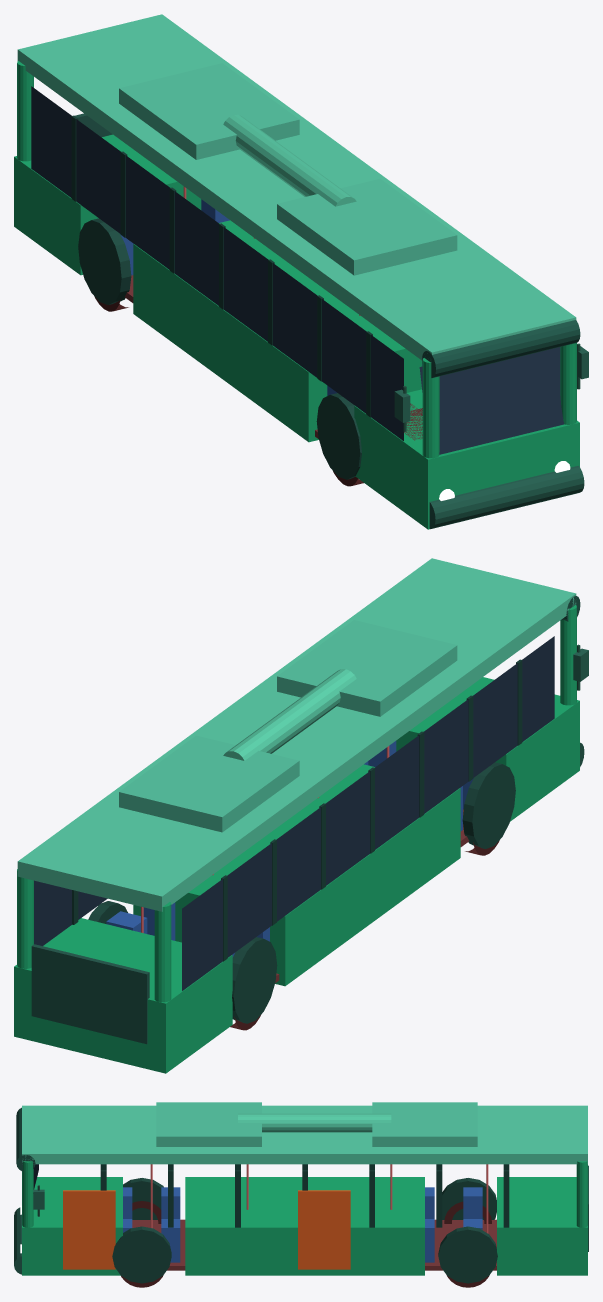
Rendered from cityline_transit_bus_lod0.glb.
3 renders of one model, top to bottom at view 1: azimuth 30°, elevation 25°; view 2: azimuth 150°, elevation 25°; view 3: azimuth 270°, elevation 25°, orthographic. The views are drawn at different scales.
Parts seen in each view (by area): view 1: Chassis, Glass; view 2: Chassis, Glass, Passenger_Seats; view 3: Chassis, Door_Center, Door_Front, Passenger_Seats, Interior_Cockpit, Wheel_RL, Wheel_FL.
Part boxes in pixels (left/top/right/bottom): Chassis: left=14, top=14, right=588, bottom=529; Glass: left=31, top=86, right=564, bottom=454; Chassis: left=14, top=558, right=588, bottom=1073; Glass: left=34, top=636, right=554, bottom=990; Passenger_Seats: left=106, top=741, right=473, bottom=957; Chassis: left=14, top=1102, right=588, bottom=1283; Door_Center: left=298, top=1190, right=350, bottom=1269; Door_Front: left=63, top=1190, right=115, bottom=1269; Passenger_Seats: left=123, top=1187, right=482, bottom=1262; Interior_Cockpit: left=132, top=1164, right=496, bottom=1270; Wheel_RL: left=444, top=1201, right=491, bottom=1223; Wheel_FL: left=132, top=1201, right=161, bottom=1223.
Bounding box in the file's own units: 3.06 × 3.42 × 11.99.
